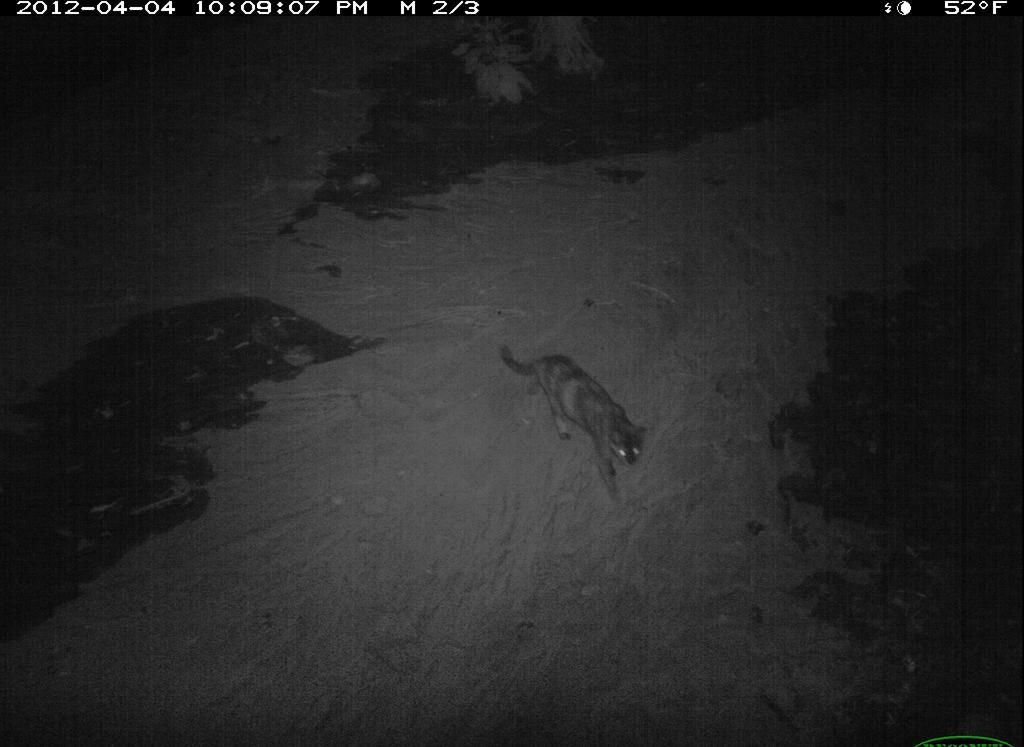cat: (492, 336, 658, 516)
